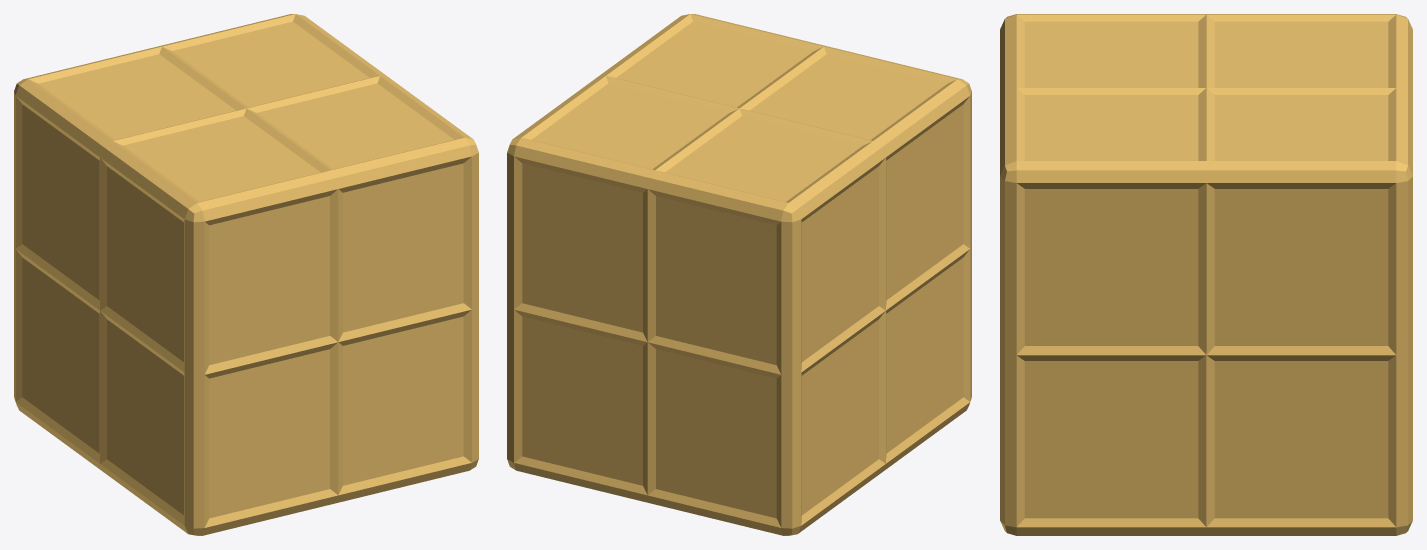
Rendered from SM_DOR_ScrapDoor_LG.fbx.
3 views of the same model, side by side, from view 1: azimuth 30°, elevation 25°; view 2: azimuth 150°, elevation 25°; view 3: azimuth 270°, elevation 25° (orthographic). The views are drawn at different scales.
Visible parts, largest first — view 1: SM_DOR_ScrapDoor_LG; view 2: SM_DOR_ScrapDoor_LG; view 3: SM_DOR_ScrapDoor_LG.
Boxes of the visible parts, x1,y1,x2,y2 form: SM_DOR_ScrapDoor_LG: [14, 14, 478, 535]; SM_DOR_ScrapDoor_LG: [507, 14, 971, 535]; SM_DOR_ScrapDoor_LG: [1000, 14, 1412, 535].
Size of what is drawn, in the model's own units: 2.3 by 2.5 by 2.5.
